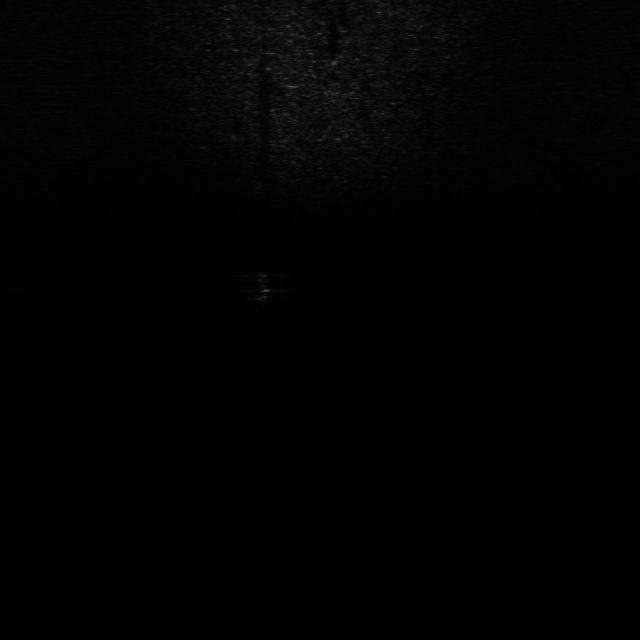human body: (250, 268, 280, 312)
